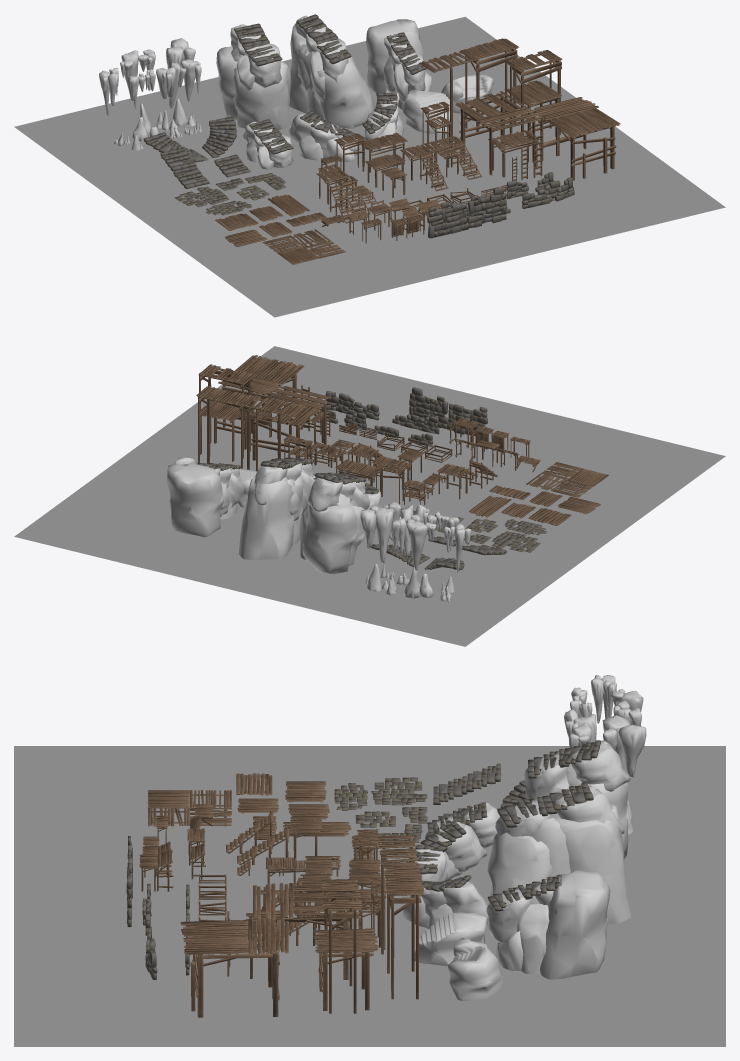
The model's file is Caves_Pieces_1A1_LOD1.fbx.
3 renders of one model, top to bottom at view 1: azimuth 30°, elevation 25°; view 2: azimuth 150°, elevation 25°; view 3: azimuth 270°, elevation 25°, orthographic. The views are drawn at different scales.
Visible parts, largest first — view 1: Stone_Plane_1A, Stone_Stairs_1A9.001, Stone_Stairs_1A10.001, Stone_Stairs_1A8.001, Scaffolding_Tall_1A5.001, Scaffolding_Tall_1A4.001, Scaffolding_Tall_1A1.001, Stone_Stairs_1A7.001, Stone_Stairs_1A5.001, Stone_Stairs_1A6.001, Scaffolding_Tall_1A2.001, Stone_Stairs_1B2.001 (+26 smaller); view 2: Stone_Plane_1A, Stone_Stairs_1A9.001, Stone_Stairs_1A10.001, Stone_Stairs_1A8.001, Scaffolding_Tall_1A4.001, Scaffolding_Tall_1A1.001, Scaffolding_Tall_1A5.001, Stalactites_1A2.001, Stalactites_1A4.001, Scaffolding_Tall_1A3.001, Scaffolding_Tall_1A2.001, Stone_Wall_1A2.001 (+11 smaller); view 3: Stone_Plane_1A, Stone_Stairs_1A9.001, Stone_Stairs_1A8.001, Scaffolding_Tall_1A5.001, Stone_Stairs_1A10.001, Scaffolding_Tall_1A1.001, Stone_Stairs_1A7.001, Scaffolding_Tall_1A4.001, Stone_Stairs_1B1.001, Stone_Stairs_1A6.001, Scaffolding_Tall_1A3.001, Stone_Stairs_1B2.001 (+18 smaller).
Boxes of the visible parts, left/top/right/bottom form: Stone_Plane_1A: left=14, top=16, right=725, bottom=317; Stone_Stairs_1A9.001: left=289, top=14, right=374, bottom=128; Stone_Stairs_1A10.001: left=216, top=23, right=291, bottom=129; Stone_Stairs_1A8.001: left=366, top=19, right=431, bottom=110; Scaffolding_Tall_1A5.001: left=534, top=97, right=620, bottom=180; Scaffolding_Tall_1A4.001: left=455, top=91, right=541, bottom=175; Scaffolding_Tall_1A1.001: left=419, top=38, right=518, bottom=143; Stone_Stairs_1A7.001: left=288, top=110, right=359, bottom=161; Stone_Stairs_1A5.001: left=242, top=119, right=293, bottom=169; Stone_Stairs_1A6.001: left=362, top=91, right=403, bottom=151; Scaffolding_Tall_1A2.001: left=505, top=50, right=562, bottom=145; Stone_Stairs_1B2.001: left=402, top=89, right=449, bottom=134; Stone_Plane_1A: left=14, top=346, right=725, bottom=646; Stone_Stairs_1A9.001: left=239, top=457, right=314, bottom=560; Stone_Stairs_1A10.001: left=299, top=472, right=369, bottom=574; Stone_Stairs_1A8.001: left=166, top=462, right=243, bottom=537; Scaffolding_Tall_1A4.001: left=245, top=386, right=331, bottom=460; Scaffolding_Tall_1A1.001: left=196, top=386, right=300, bottom=471; Scaffolding_Tall_1A5.001: left=218, top=355, right=304, bottom=437; Stalactites_1A2.001: left=360, top=505, right=393, bottom=563; Stalactites_1A4.001: left=391, top=518, right=436, bottom=570; Scaffolding_Tall_1A3.001: left=197, top=400, right=251, bottom=461; Scaffolding_Tall_1A2.001: left=198, top=364, right=255, bottom=458; Stone_Wall_1A2.001: left=409, top=387, right=448, bottom=428; Stone_Plane_1A: left=14, top=746, right=725, bottom=1046; Stone_Stairs_1A9.001: left=487, top=782, right=631, bottom=924; Stone_Stairs_1A8.001: left=486, top=870, right=610, bottom=979; Scaffolding_Tall_1A5.001: left=180, top=918, right=288, bottom=1017; Stone_Stairs_1A10.001: left=524, top=740, right=630, bottom=858; Scaffolding_Tall_1A1.001: left=377, top=835, right=423, bottom=999; Stone_Stairs_1A7.001: left=406, top=821, right=486, bottom=881; Scaffolding_Tall_1A4.001: left=253, top=883, right=360, bottom=981; Stone_Stairs_1B1.001: left=448, top=938, right=503, bottom=1001; Stone_Stairs_1A6.001: left=403, top=875, right=488, bottom=929; Scaffolding_Tall_1A3.001: left=313, top=928, right=378, bottom=1010; Stone_Stairs_1B2.001: left=414, top=912, right=487, bottom=966.
Size of the model in its own units: 7657 by 2109 by 7657.
